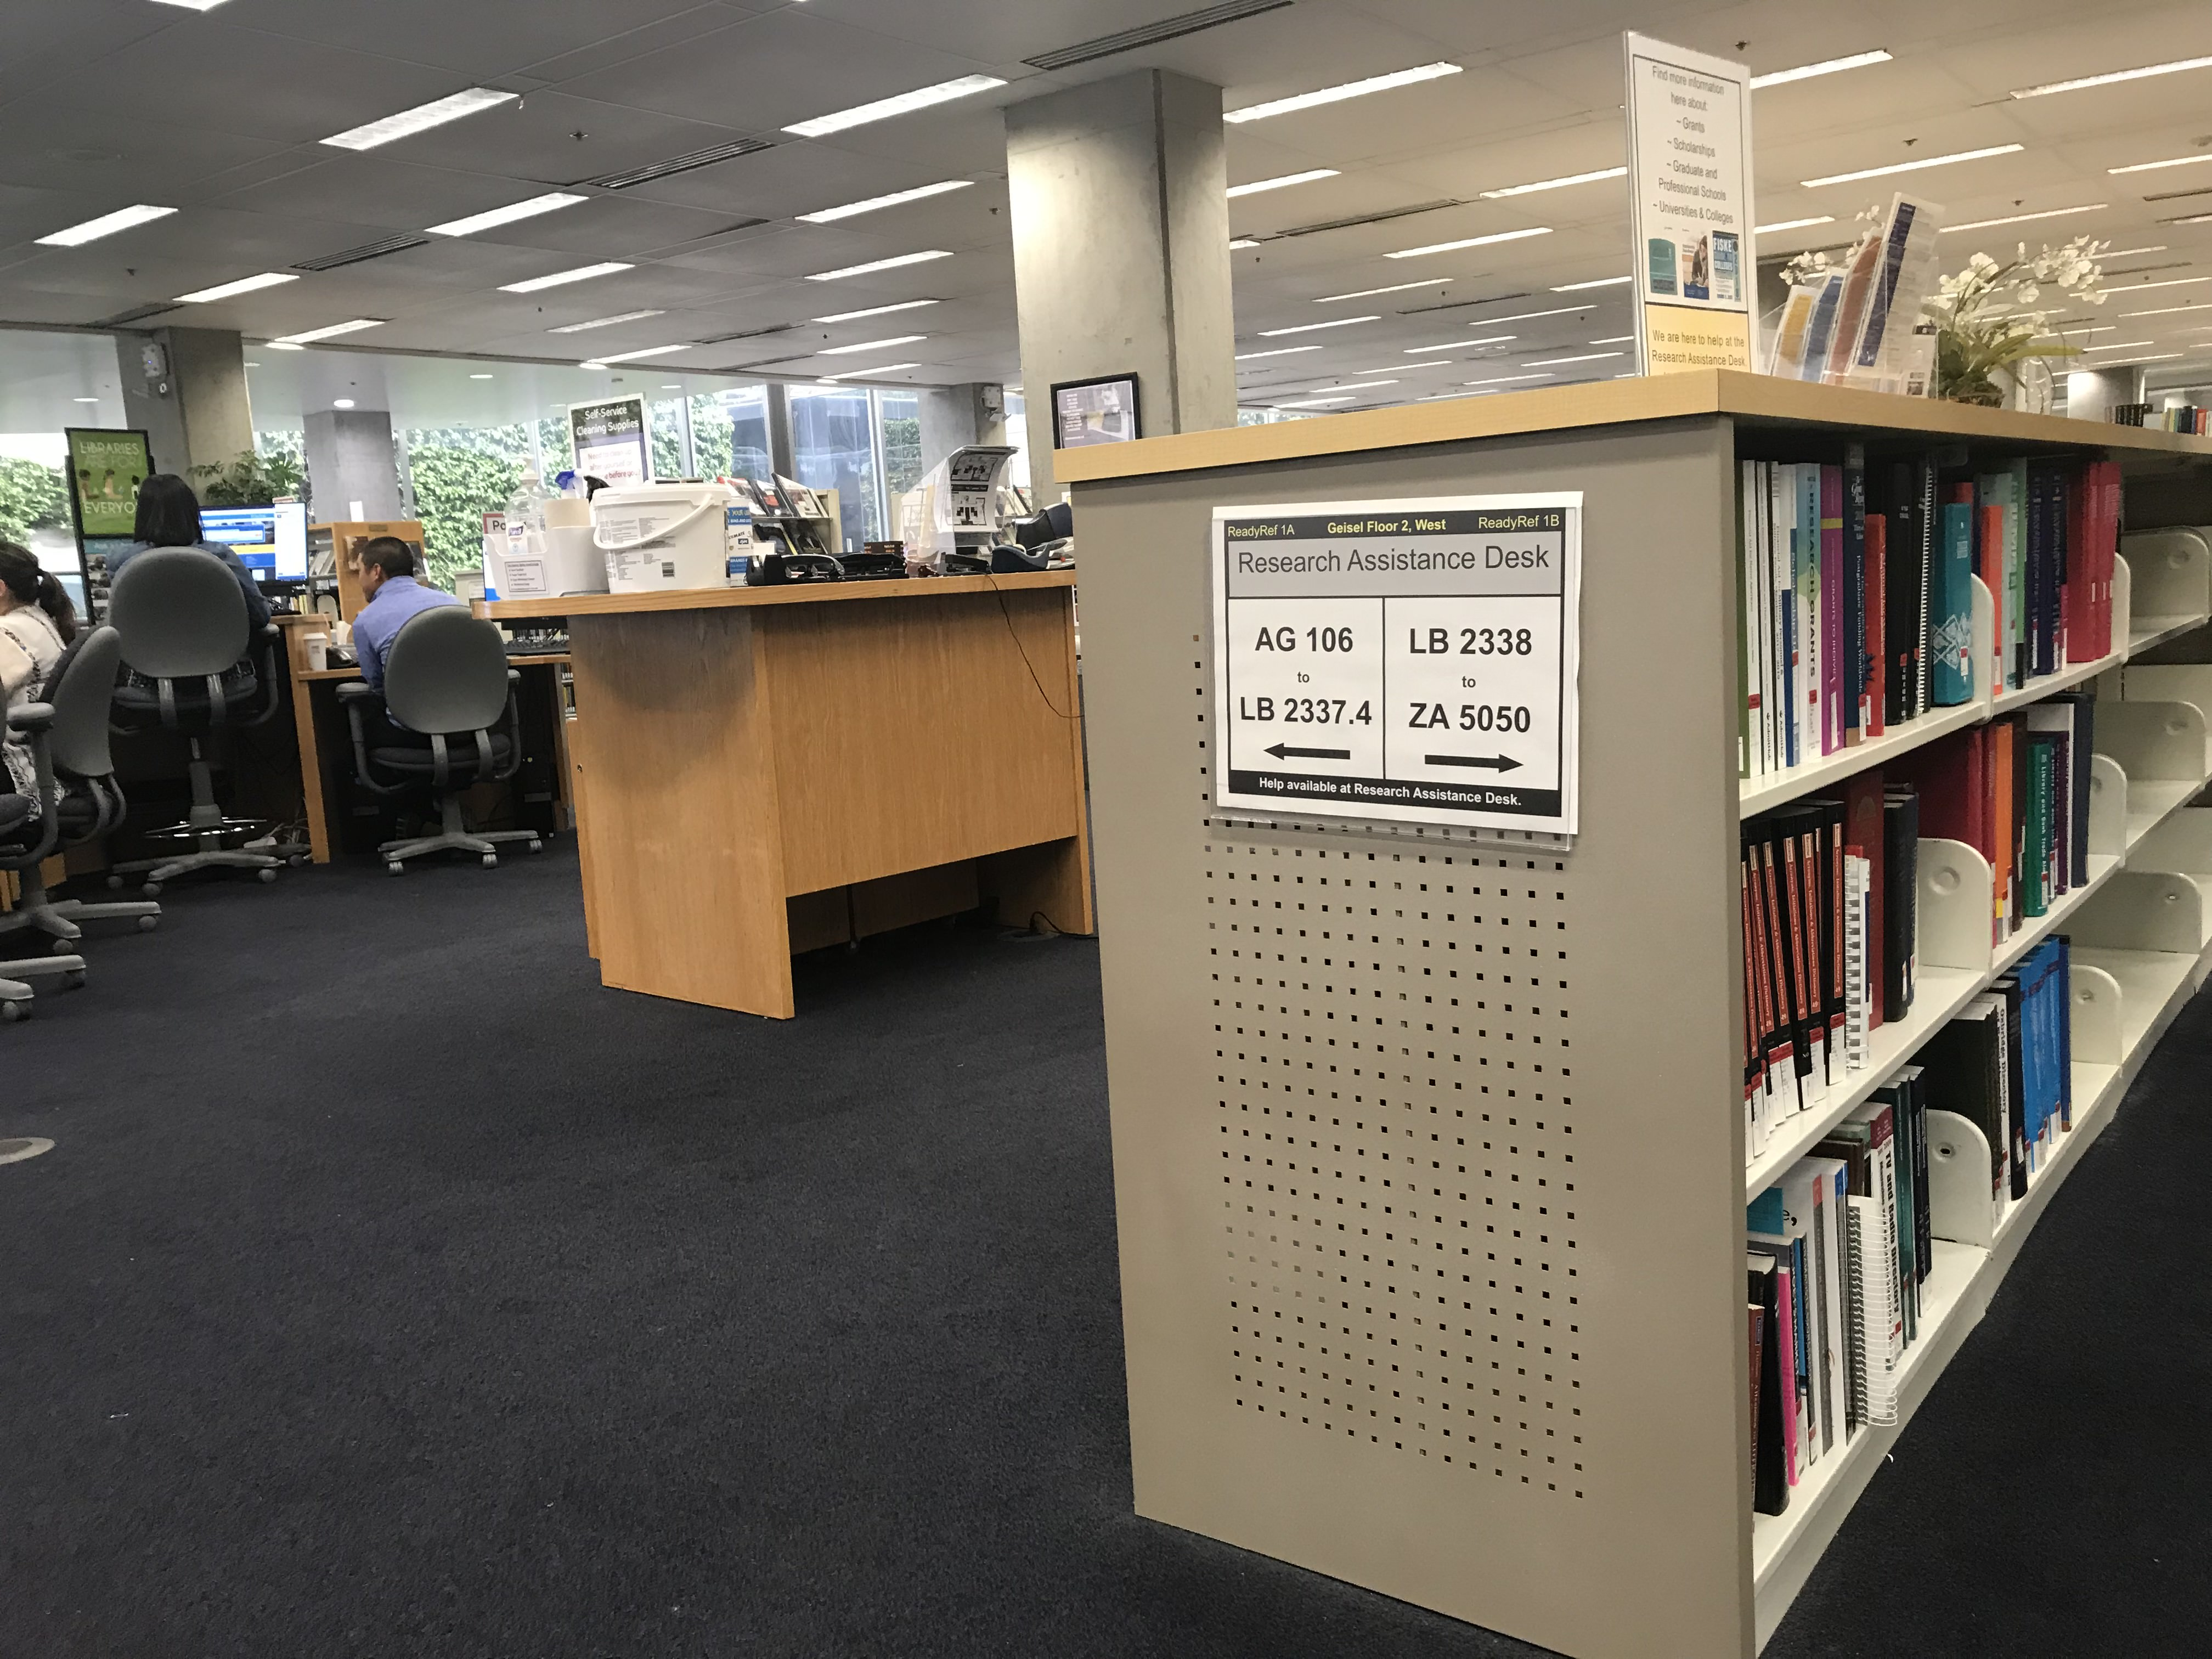Obstacle: (1035, 429, 2209, 1656), (484, 521, 1040, 995), (14, 497, 488, 1014)
